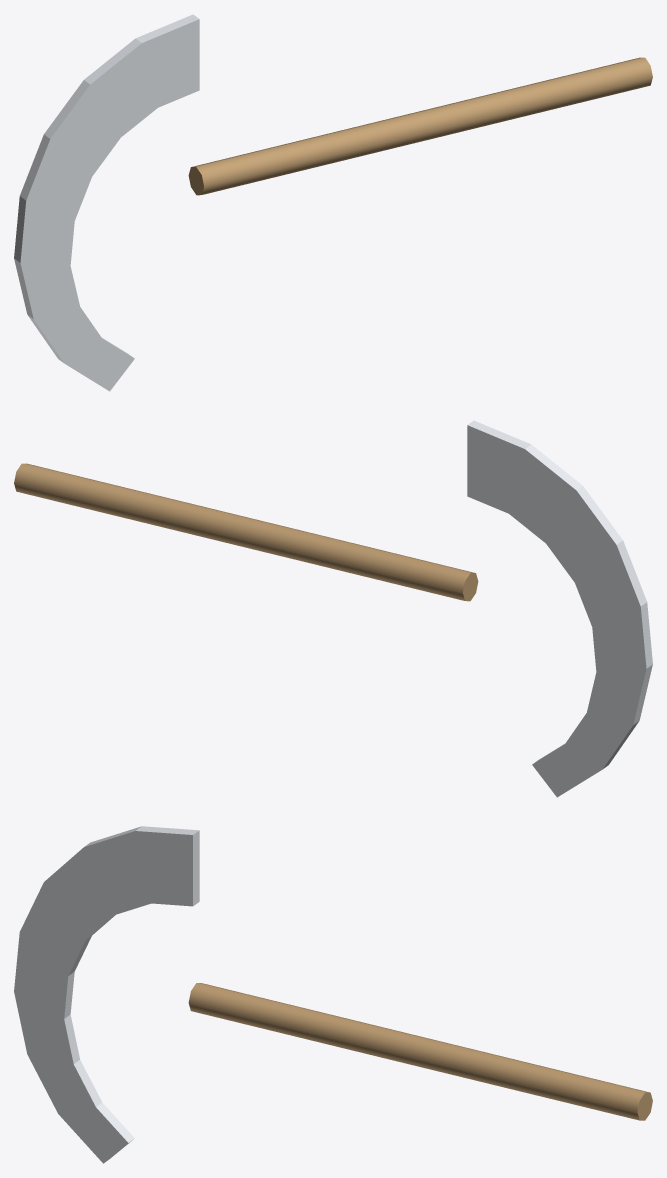
Rendered from Scythe.fbx.
3 renders of one model, top to bottom at view 1: azimuth 30°, elevation 25°; view 2: azimuth 150°, elevation 25°; view 3: azimuth 330°, elevation 25°, orthographic.
Visible parts, largest first — view 1: scythe; view 2: scythe; view 3: scythe.
Boxes of the visible parts, x1,y1,x2,y2 form: scythe: (14,14,652,391); scythe: (14,420,652,797); scythe: (14,826,652,1163).
Bounding box in the file's own units: 1.4 × 0.7464 × 0.06.
